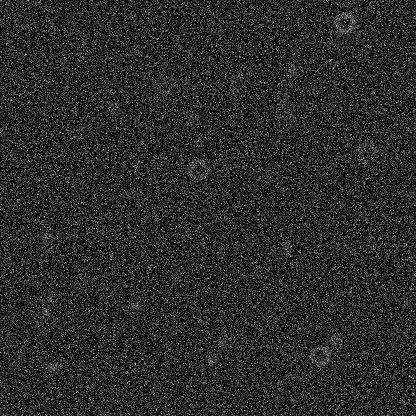Ring: (307, 343, 331, 367), (332, 10, 356, 34), (273, 98, 297, 122), (354, 139, 378, 163), (152, 71, 176, 95), (186, 158, 210, 182), (118, 151, 142, 175)
Spot: (228, 71, 244, 87), (277, 240, 293, 256), (284, 61, 300, 77), (184, 111, 200, 127), (38, 303, 54, 319), (103, 98, 119, 114), (42, 289, 58, 305), (44, 359, 60, 375), (82, 272, 98, 288), (107, 7, 123, 23), (37, 229, 53, 245), (127, 297, 143, 313), (213, 336, 229, 352), (203, 352, 219, 368), (327, 329, 343, 345)
